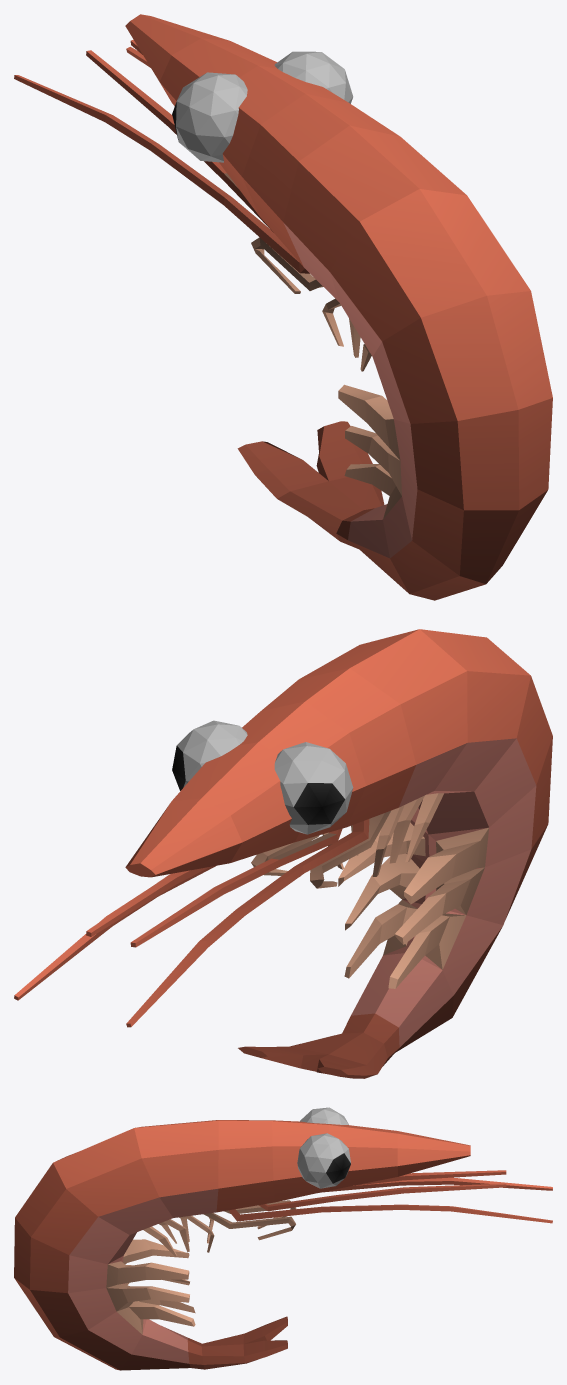
Rendered from shrimp.glb.
The picture shows the model from 3 angles, top to bottom: view 1: azimuth 30°, elevation 25°; view 2: azimuth 150°, elevation 25°; view 3: azimuth 270°, elevation 25°; orthographic projection. The views are drawn at different scales.
Visible parts, largest first — view 1: shrimp_merged; view 2: shrimp_merged; view 3: shrimp_merged.
Part boxes in pixels (box(x1,y1,x2,y2)): shrimp_merged: box(14, 14, 552, 600); shrimp_merged: box(14, 629, 552, 1078); shrimp_merged: box(14, 1107, 552, 1370).
Size of the model in its own units: 1.53 by 3.56 by 6.99.
3 materials, 3 textured.
